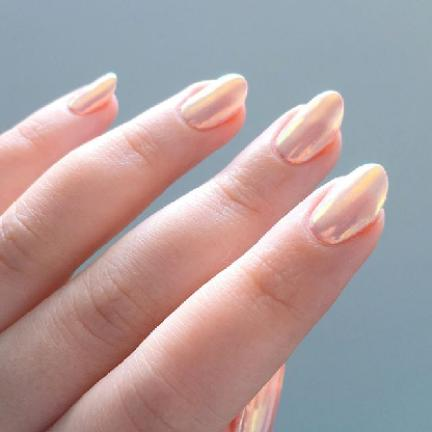Nail: (307, 163, 389, 245), (274, 90, 344, 164), (179, 74, 248, 129), (231, 362, 286, 431), (67, 72, 117, 115)
